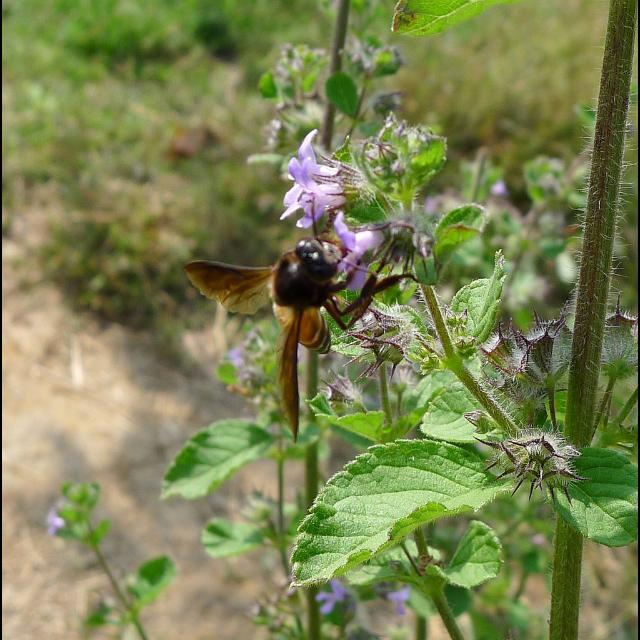Flower: (488, 418, 594, 492), (283, 127, 341, 207), (338, 211, 388, 287), (282, 186, 342, 228), (318, 572, 348, 612), (386, 588, 409, 618)
